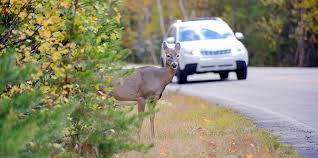deer: (100, 42, 182, 136)
